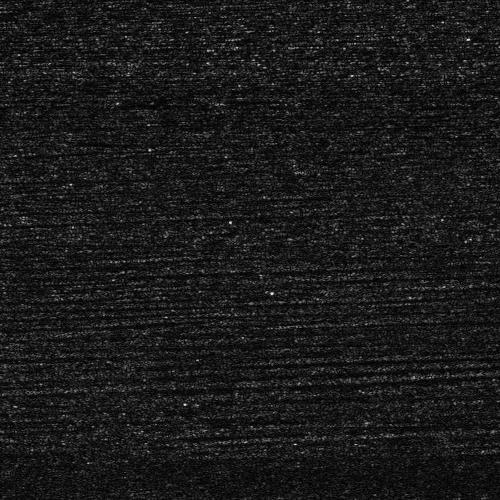rock: (205, 91, 216, 110)
shadow: (211, 91, 283, 110)
